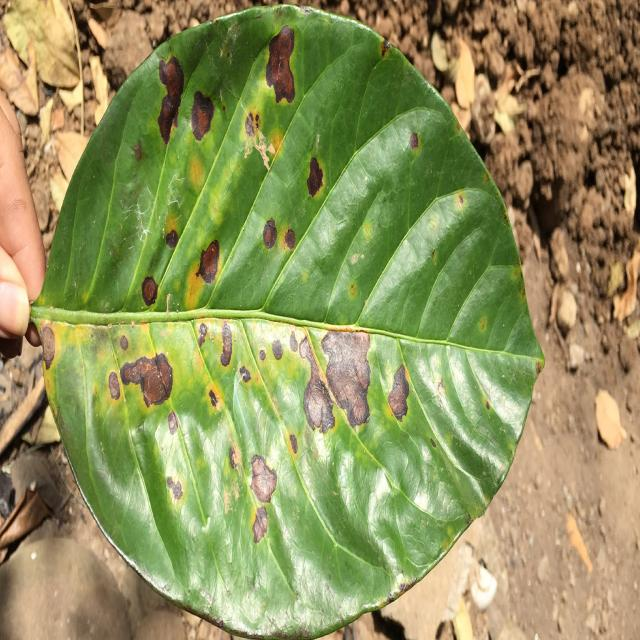Enfermedad-Mancha-de-hierro: (31, 8, 543, 639)
